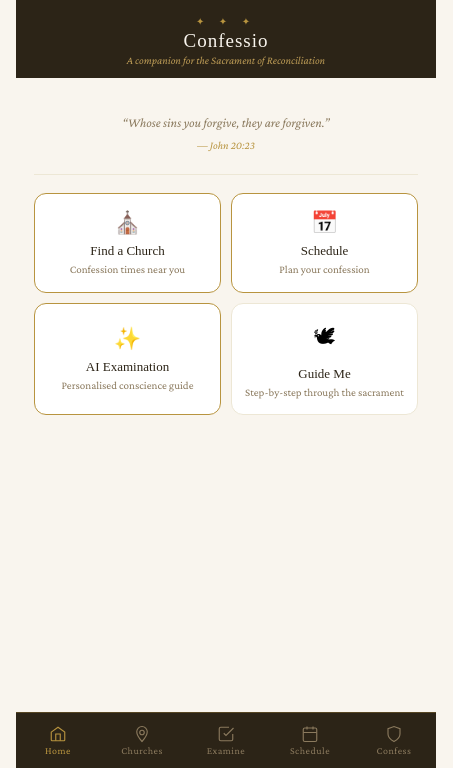
Test case: App › navigates to AIExaminationScreen via BottomNav
This screenshot has width=453, height=768.
What coordinates should you click on to do the following:
click the button "Examine"
I would click on:
 (226, 740)
Its box is [184, 713, 268, 767].
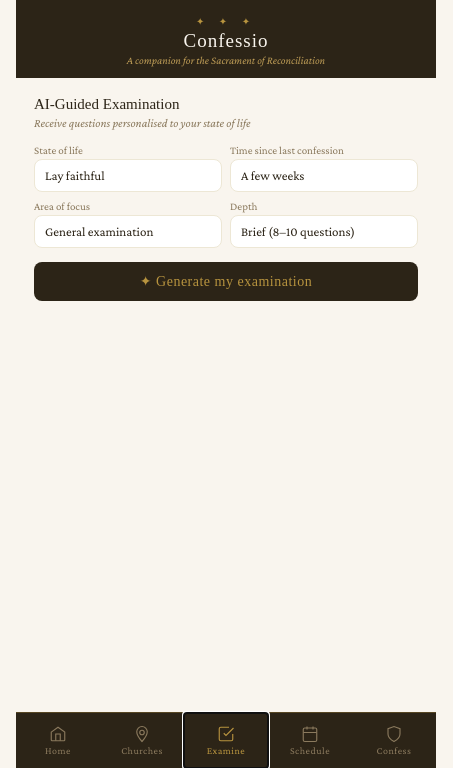
Check: the heading "AI-Guided Examination" is shown, box [34, 96, 179, 112]
